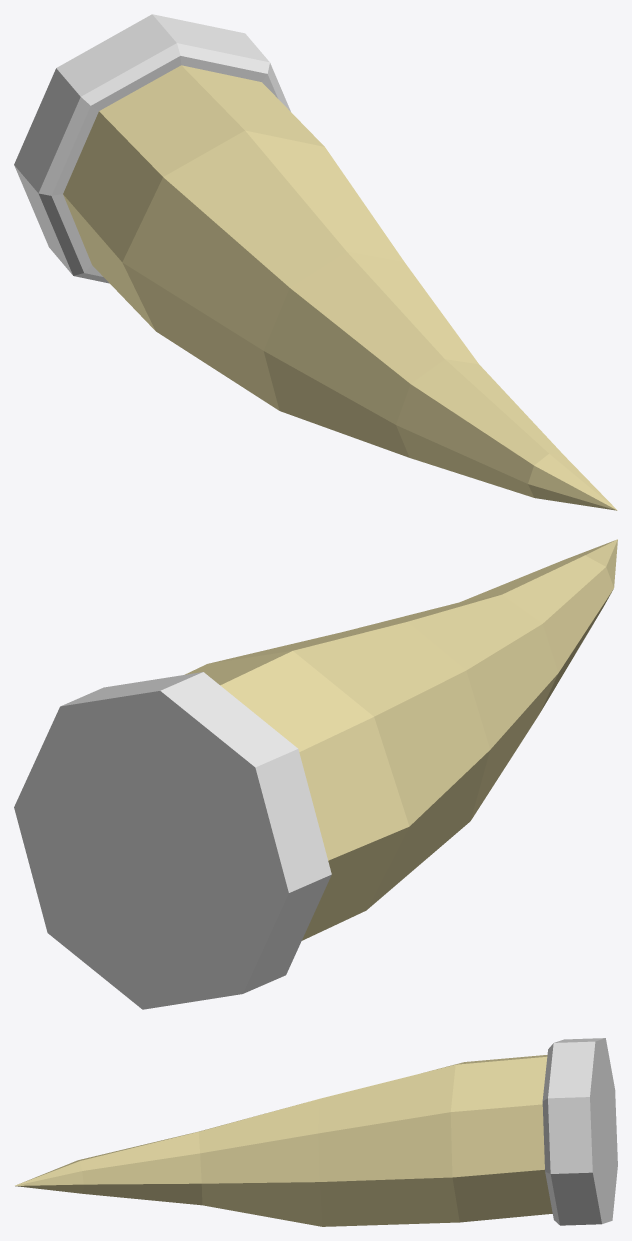
File: big tooth.fbx
3 renders of one model, top to bottom at view 1: azimuth 30°, elevation 25°; view 2: azimuth 150°, elevation 25°; view 3: azimuth 270°, elevation 25°, orthographic. The views are drawn at different scales.
Parts seen in each view (by area): view 1: Tooth1; view 2: Tooth1; view 3: Tooth1.
Boxes of the visible parts, x1=… form: Tooth1: x1=14, y1=14, x2=617, y2=510; Tooth1: x1=14, y1=539, x2=617, y2=1009; Tooth1: x1=15, y1=1038, x2=617, y2=1226.
Bounding box in the file's own units: 13.41 × 13.38 × 40.28.
